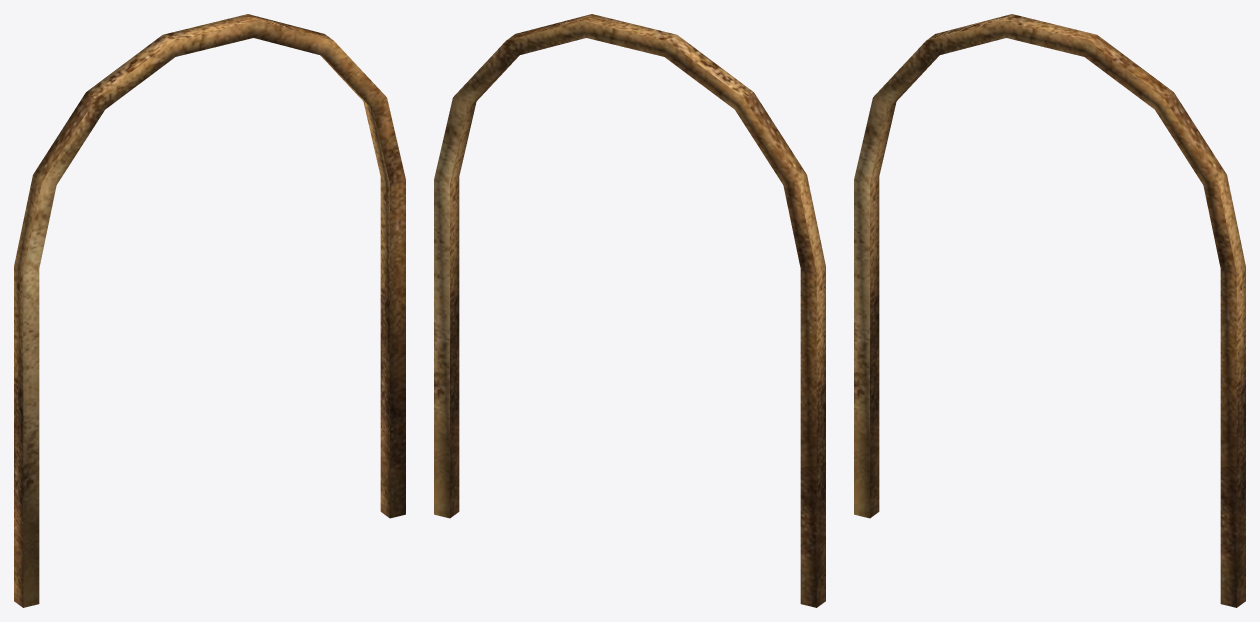
File: UDC_BycicleLocker.obj
3 views of the same model, side by side, from view 1: azimuth 30°, elevation 25°; view 2: azimuth 150°, elevation 25°; view 3: azimuth 330°, elevation 25° (orthographic).
Visible parts, largest first — view 1: UDC_BycicleLocker; view 2: UDC_BycicleLocker; view 3: UDC_BycicleLocker.
Part boxes in pixels (x1,y1,x2,y2): UDC_BycicleLocker: (14,14,405,607); UDC_BycicleLocker: (434,14,825,607); UDC_BycicleLocker: (854,14,1245,607).
Bounding box in the file's own units: 0.1569 × 0.2077 × 0.00656.
1 material, 1 textured.
